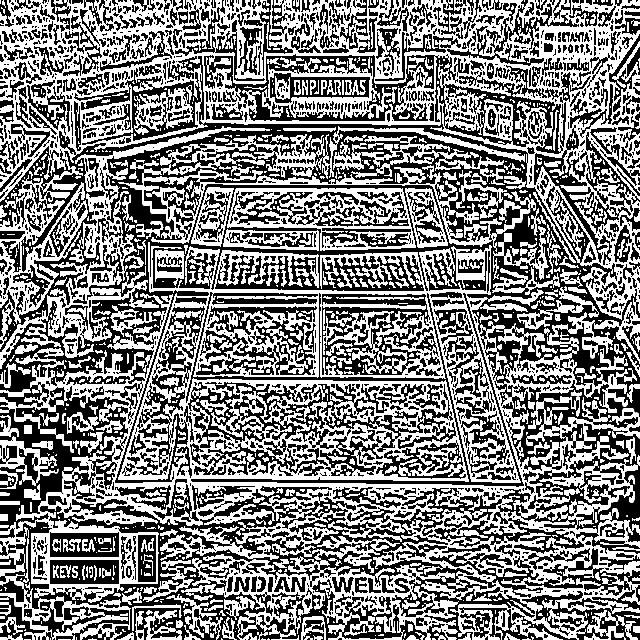left side: (403, 187, 523, 484), (115, 185, 235, 481)
player: (163, 395, 201, 523), (326, 122, 344, 181)
